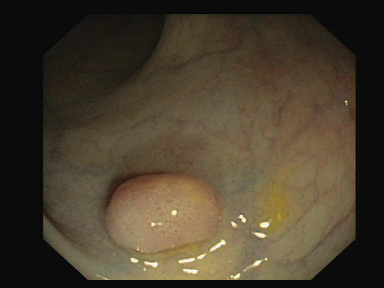polyp: (82, 170, 240, 252)
